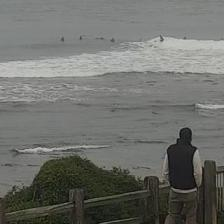surfer: (60, 36, 65, 41), (96, 37, 104, 40), (160, 35, 164, 41), (79, 36, 83, 40), (111, 38, 115, 42), (183, 36, 187, 39), (220, 36, 223, 40)
